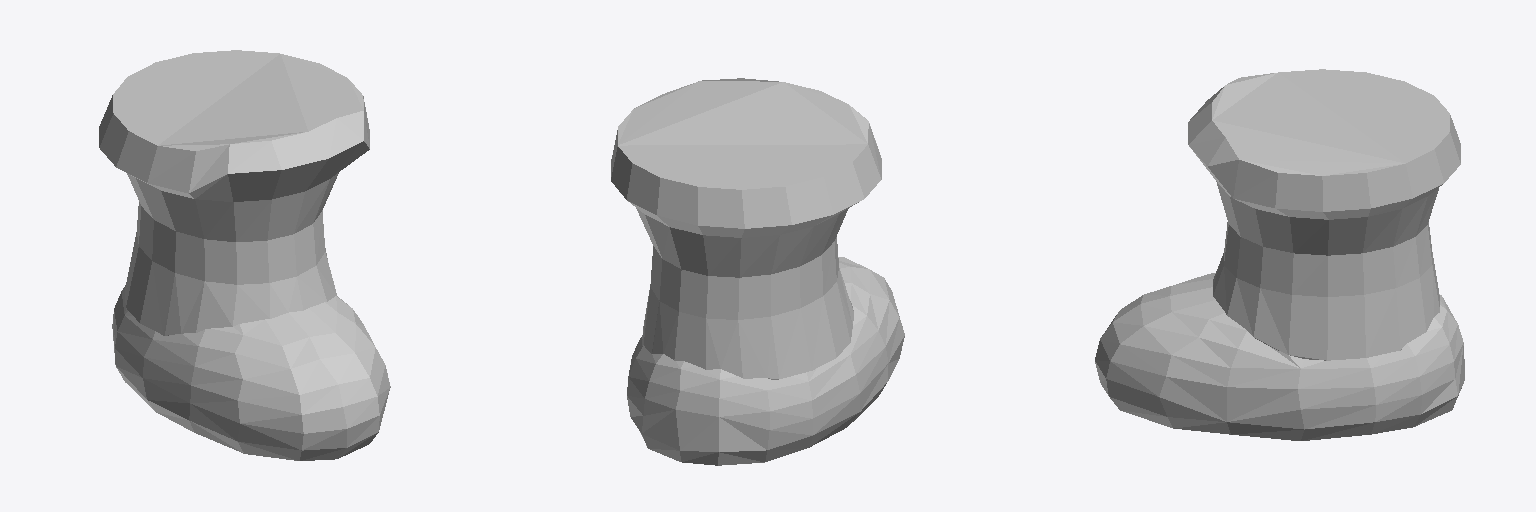
The model's file is bota.obj.
3 views of the same model, side by side, from view 1: azimuth 30°, elevation 25°; view 2: azimuth 150°, elevation 25°; view 3: azimuth 270°, elevation 25° (orthographic).
Parts seen in each view (by area): view 1: Mesh; view 2: Mesh; view 3: Mesh.
Part boxes in pixels (x1,y1,x2,y2): Mesh: (99,50,390,460); Mesh: (611,78,904,465); Mesh: (1095,69,1464,440).
Size of the model in its own units: 1.08 by 1.27 by 1.47.